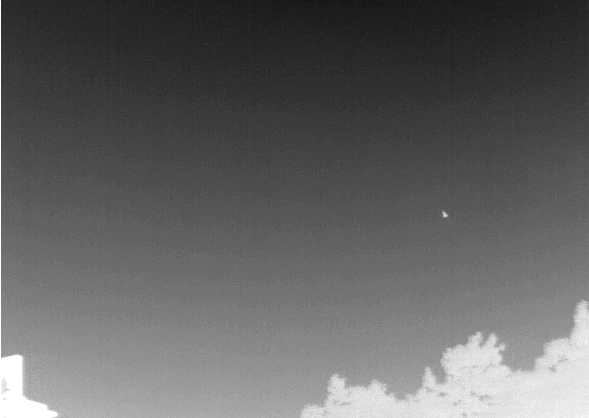dim target: (440, 210, 450, 219)
